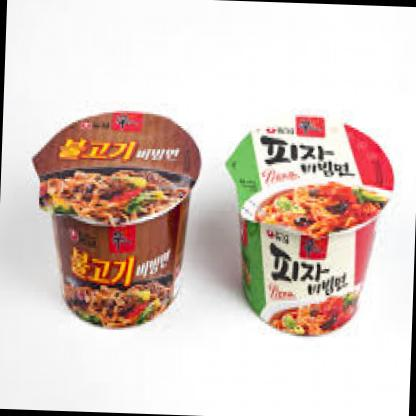Ramen: (216, 108, 396, 340), (32, 105, 210, 336)
